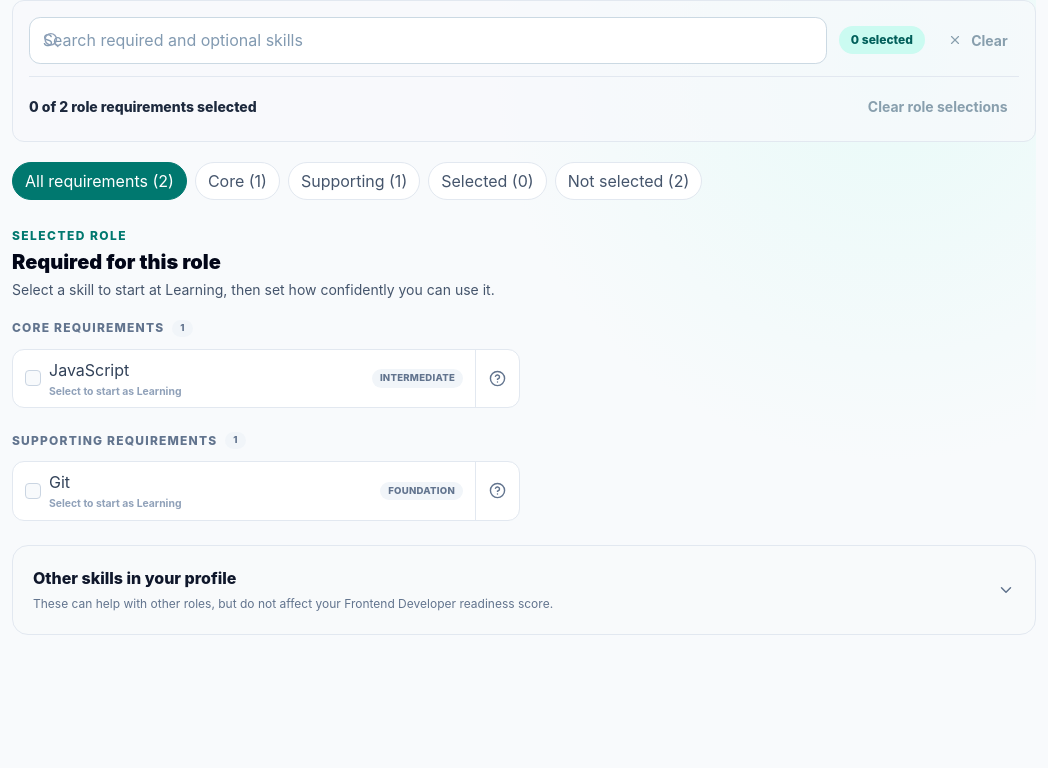
SkillSelector › provides a recoverable no-results state
In the search field named "Search skills": (428, 40) [29,17,827,64], type "kubernetes"
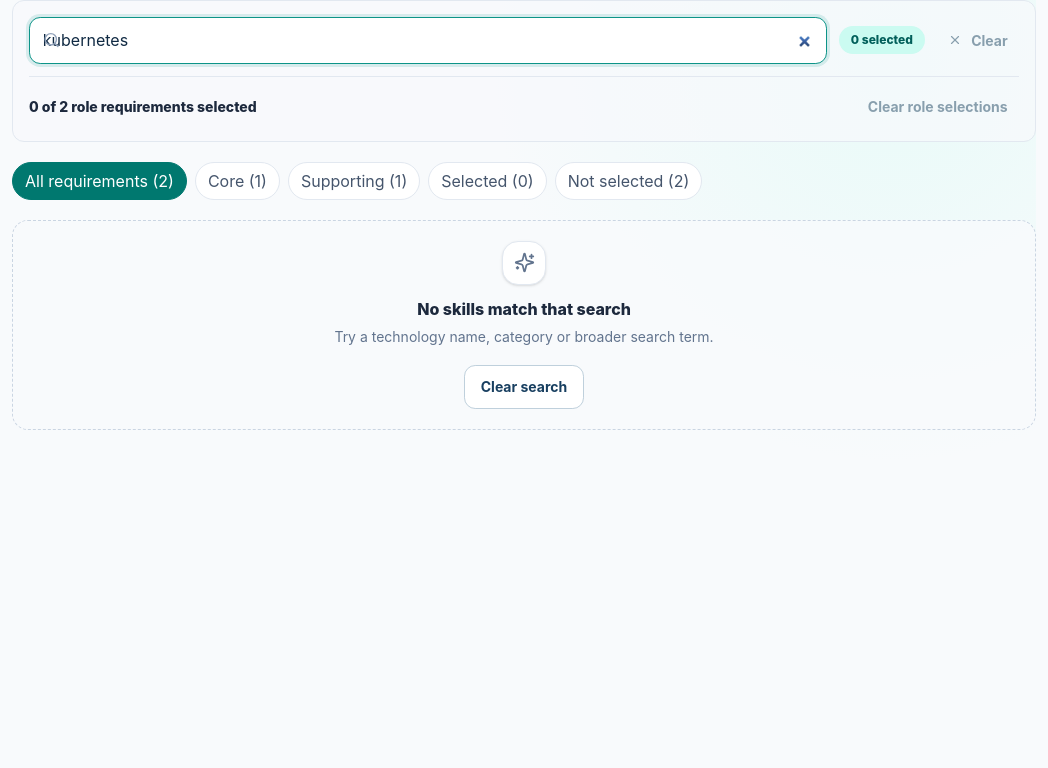
Now the heading "No skills match that search" is shown, box [417,299,631,319]
Click the button "Clear search": click(524, 387) [464,365,584,409]
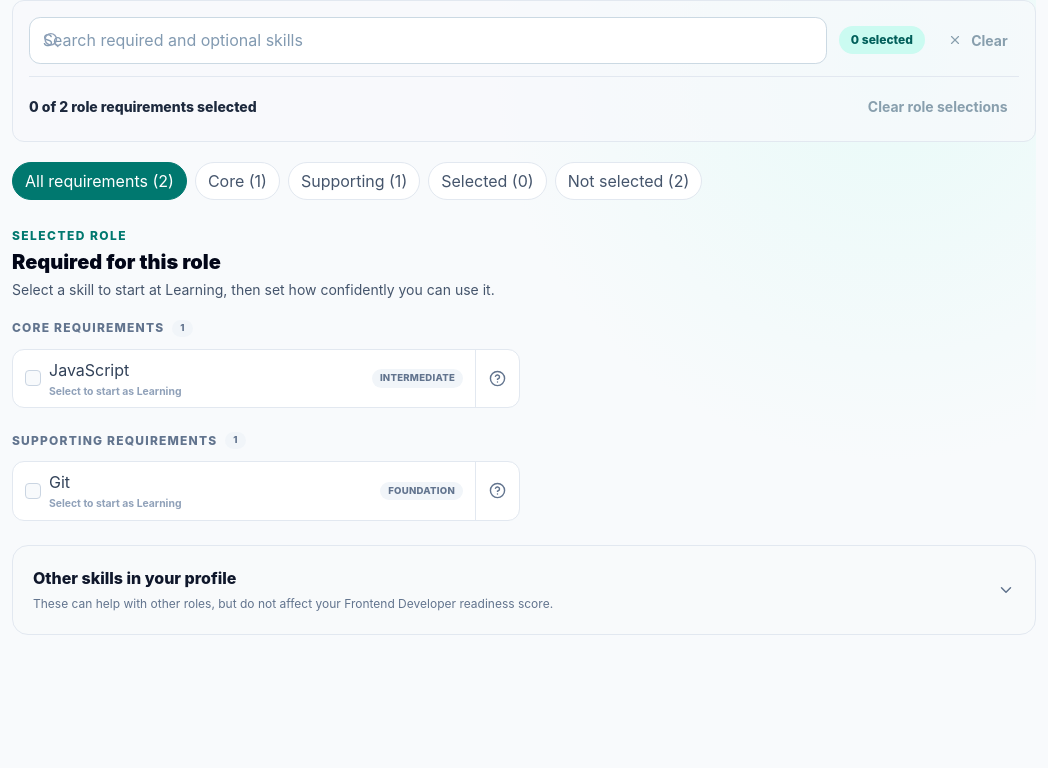
Now the checkbox labelled "JavaScript" is shown, box [13,350,475,407]
